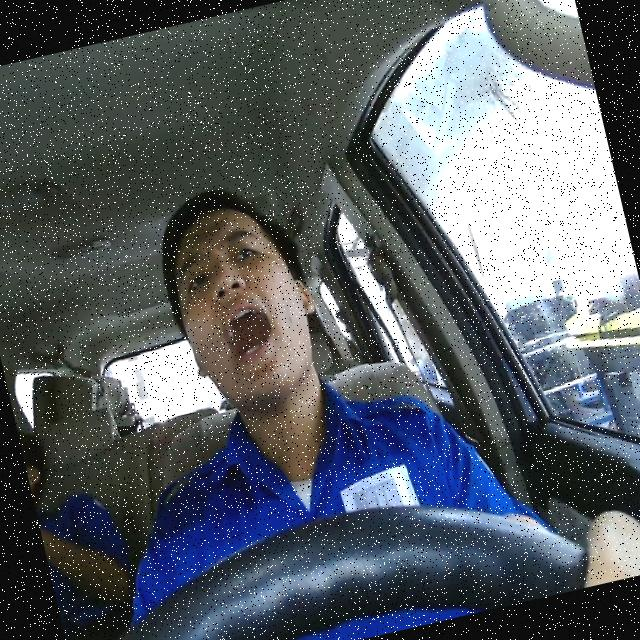yarning: (156, 191, 332, 421)
